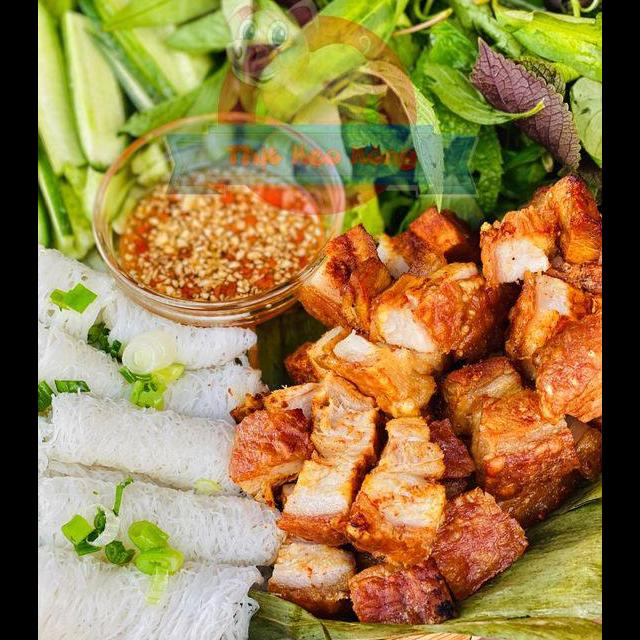banh hoi: (39, 237, 262, 381), (39, 316, 279, 436), (39, 464, 296, 574), (39, 386, 280, 502), (39, 539, 272, 640)
banh hoi heo quay: (60, 0, 602, 640)
thit heo quay: (278, 318, 451, 573), (439, 349, 602, 531), (366, 199, 512, 367), (263, 526, 463, 631), (460, 164, 602, 298), (492, 266, 602, 427), (223, 373, 339, 513), (289, 219, 407, 339), (422, 484, 533, 605)
